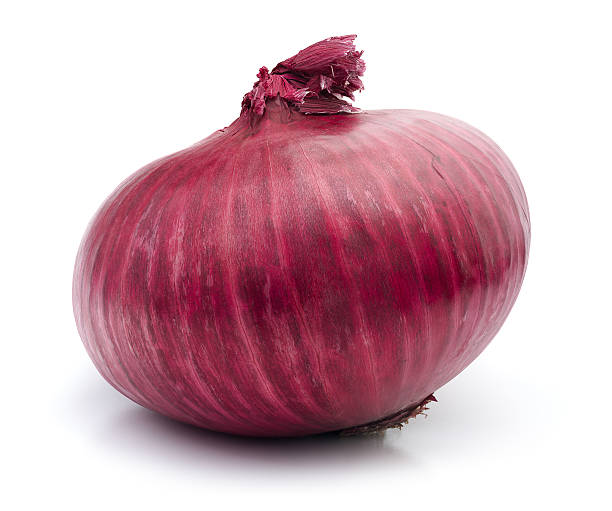onion: (66, 39, 536, 451)
